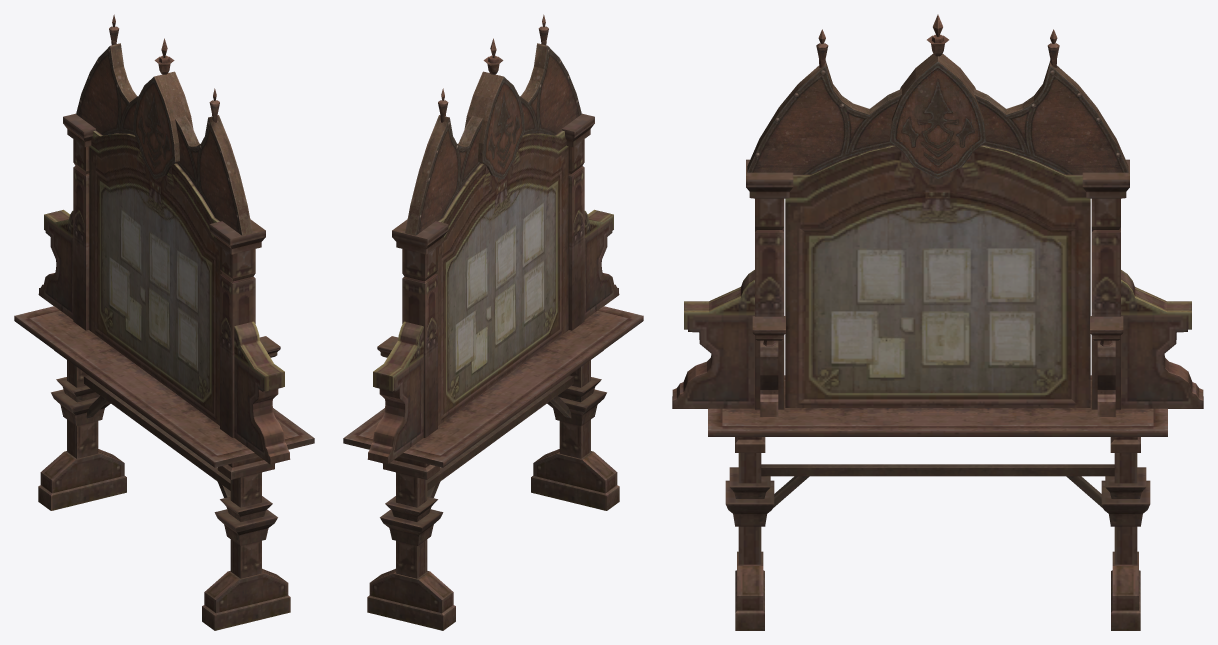
Rendered from bg_lut_lucastle_billboard01a_sm_artree.FBX.
3 renders of one model, left to right at view 1: azimuth 30°, elevation 25°; view 2: azimuth 150°, elevation 25°; view 3: azimuth 270°, elevation 25°, orthographic. The views are drawn at different scales.
Parts seen in each view (by area): view 1: bg_lut_lucastle_billboard01a_sm_artree; view 2: bg_lut_lucastle_billboard01a_sm_artree; view 3: bg_lut_lucastle_billboard01a_sm_artree.
Boxes of the visible parts, box(x1,y1,x2,y2) form: bg_lut_lucastle_billboard01a_sm_artree: box(14, 14, 314, 630); bg_lut_lucastle_billboard01a_sm_artree: box(343, 14, 643, 630); bg_lut_lucastle_billboard01a_sm_artree: box(672, 14, 1203, 630).
Size of the model in its own units: 64.08 by 319 by 258.
